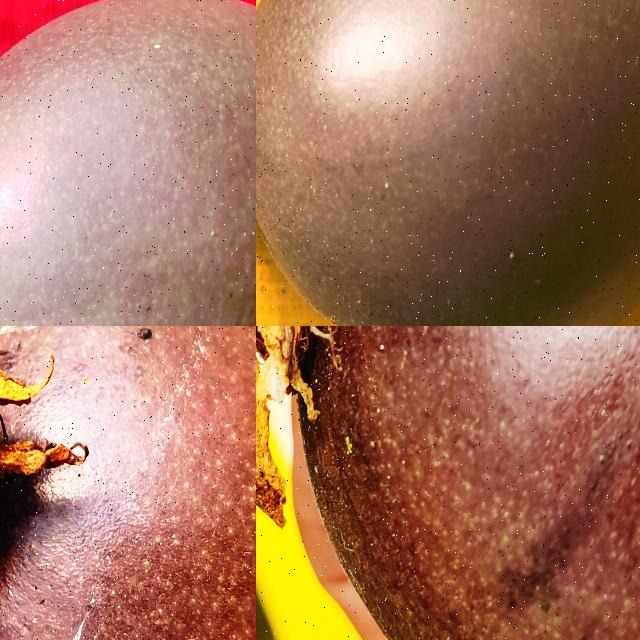Estado-2: (0, 0, 256, 326)
Estado-5: (256, 326, 640, 640), (0, 326, 256, 640)
